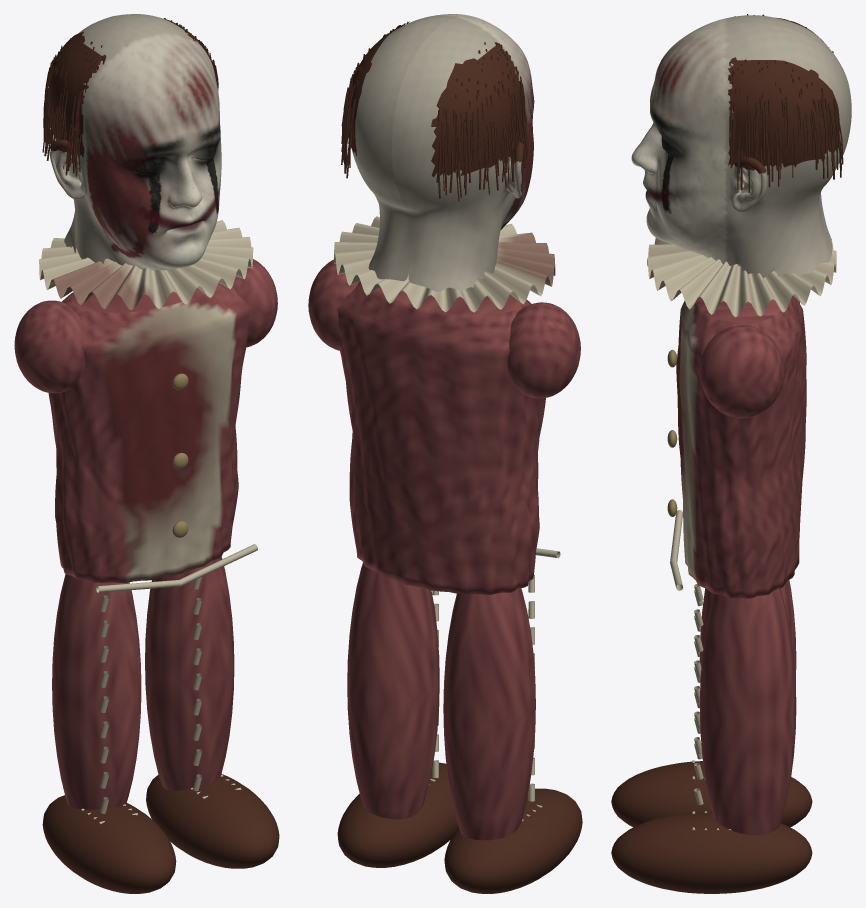
The model's file is kitchen-clown-v2.glb.
The picture shows the model from 3 angles, left to right: view 1: azimuth 30°, elevation 25°; view 2: azimuth 150°, elevation 25°; view 3: azimuth 270°, elevation 25°; orthographic projection. The views are drawn at different scales.
Visible parts, largest first — view 1: Body, Head; view 2: Body, Head; view 3: Body, Head.
Boxes of the visible parts, left/top/right/bottom form: Body: left=14, top=220, right=279, bottom=893; Head: left=42, top=14, right=221, bottom=270; Body: left=308, top=216, right=582, bottom=893; Head: left=341, top=14, right=534, bottom=291; Body: left=611, top=238, right=836, bottom=893; Head: left=631, top=14, right=851, bottom=277.
Size of the model in its own units: 0.73 by 2.3 by 0.5976.
